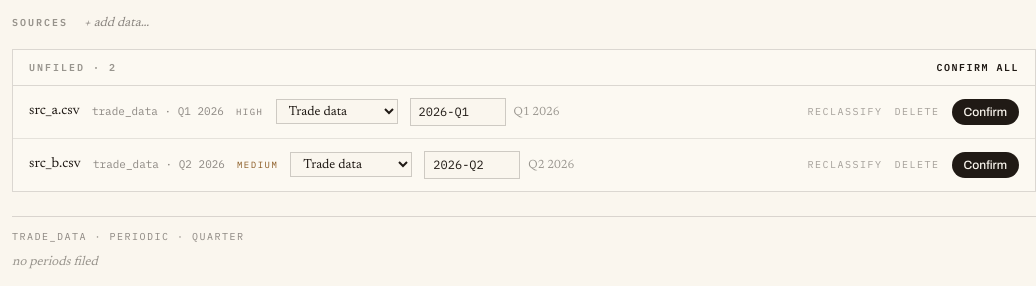
Test case: SourceManager › Confirm all with one failing + one succeeding still refetches and reports the failure
The width and height of the screenshot is (1036, 286).
Click the button "Confirm all".
click(978, 67)  # box [936,60,1019,74]
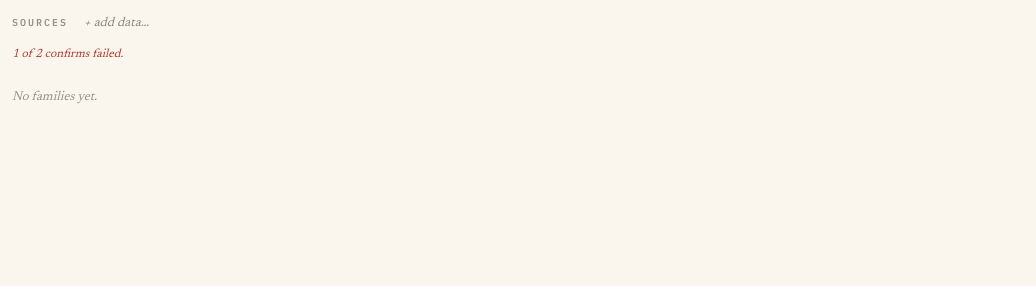
Now the text "1 of 2 confirms failed." is shown, box [12,48,123,60]
